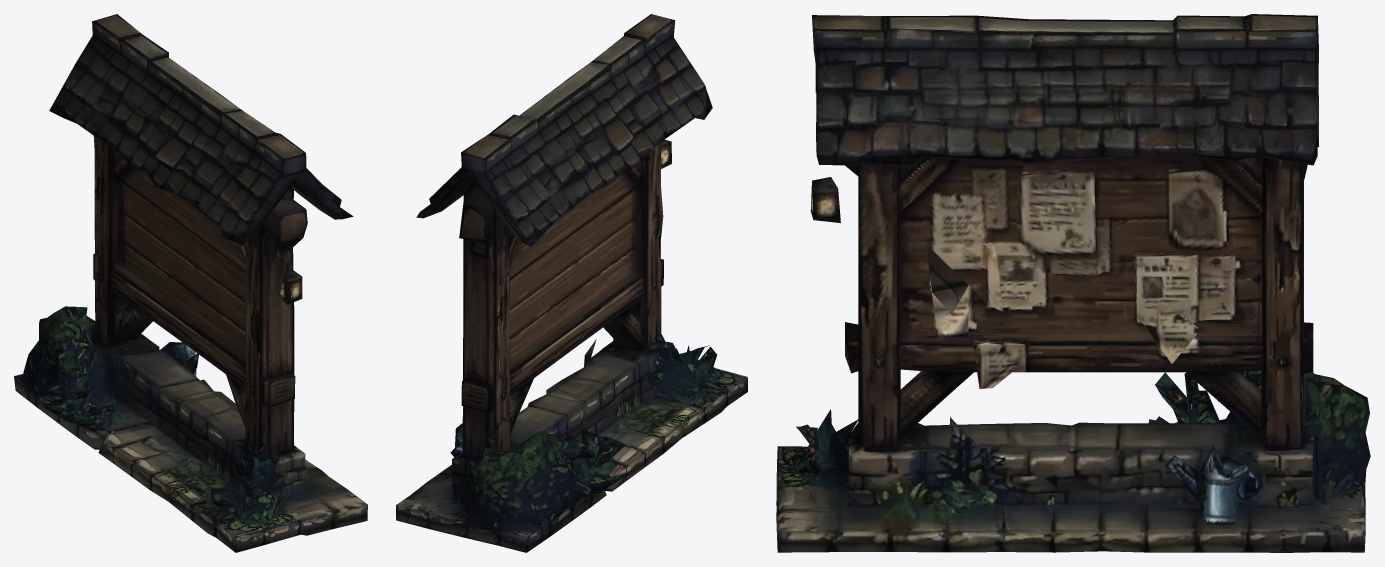
File: tripo_convert_2054b48c-d41f-4983-aa18-e5146d0eeb81.fbx
3 renders of one model, left to right at view 1: azimuth 30°, elevation 25°; view 2: azimuth 150°, elevation 25°; view 3: azimuth 270°, elevation 25°, orthographic. The views are drawn at different scales.
Parts seen in each view (by area): view 1: tripo_node_2054b48c; view 2: tripo_node_2054b48c; view 3: tripo_node_2054b48c.
Boxes of the visible parts, x1,y1,x2,y2 form: tripo_node_2054b48c: (14,14,367,552); tripo_node_2054b48c: (396,14,747,552); tripo_node_2054b48c: (776,14,1370,552).
Size of the model in its own units: 0.4323 by 0.9011 by 0.9866.
Materials: 1 (1 with a texture image).
